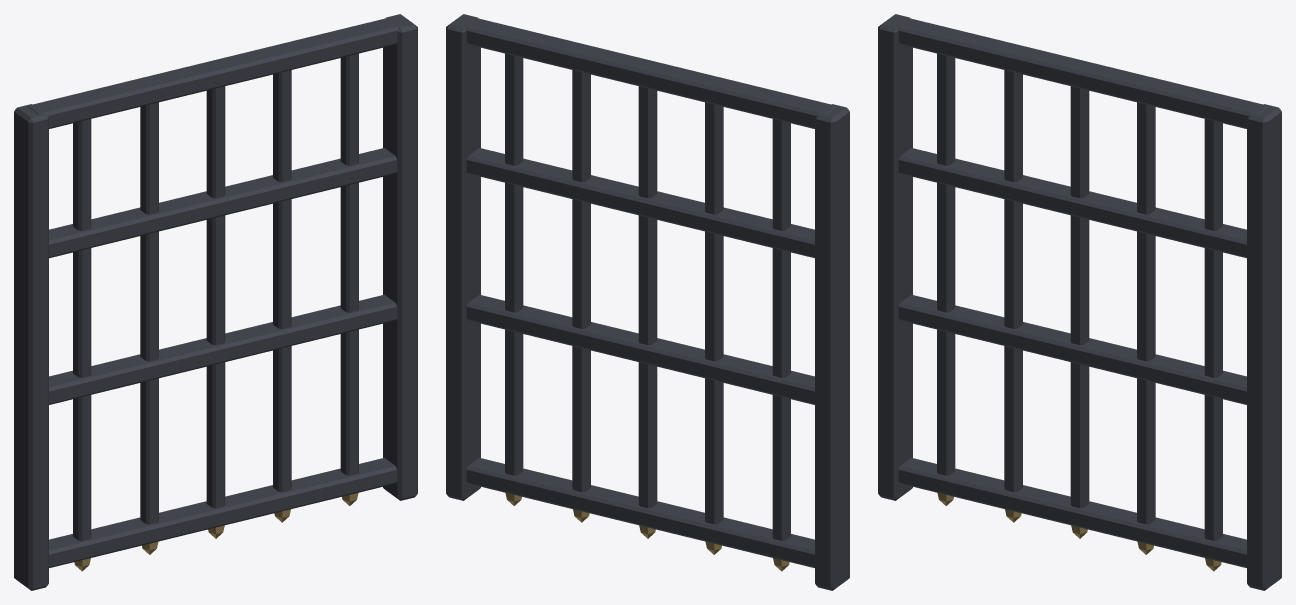
File: 08_Iron_Grate.glb
3 renders of one model, left to right at view 1: azimuth 30°, elevation 25°; view 2: azimuth 150°, elevation 25°; view 3: azimuth 330°, elevation 25°, orthographic.
Visible parts, largest first — view 1: 08_Iron_Grate__Body; view 2: 08_Iron_Grate__Body; view 3: 08_Iron_Grate__Body.
Part boxes in pixels (x1,y1,x2,y2): 08_Iron_Grate__Body: [14, 14, 417, 590]; 08_Iron_Grate__Body: [446, 14, 849, 590]; 08_Iron_Grate__Body: [878, 14, 1281, 590].
Bounding box in the file's own units: 3 × 3.49 × 0.24.
Materials: 1 (1 with a texture image).
